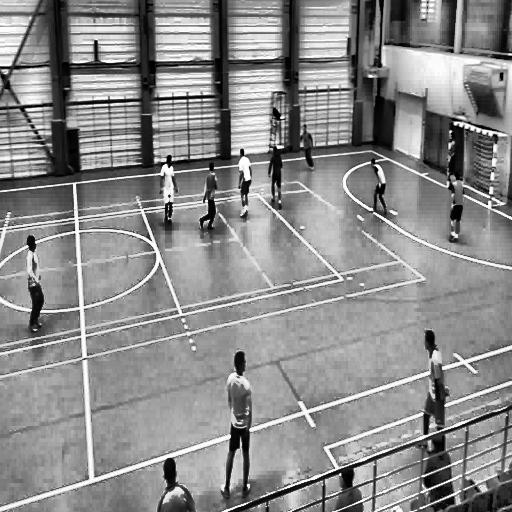player: (219, 346, 254, 500), (414, 324, 449, 450), (24, 235, 46, 335), (160, 152, 177, 227), (267, 144, 285, 214), (448, 171, 464, 246), (238, 147, 254, 220), (372, 155, 390, 219), (299, 124, 316, 174), (446, 131, 456, 186)
